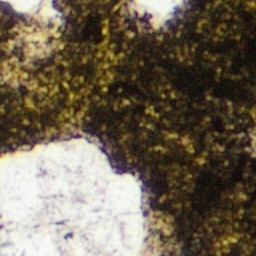cement_matrix: (0, 0, 255, 255), (0, 62, 23, 83)
gravel_crushed_stones: (0, 134, 167, 255), (0, 0, 63, 61), (125, 0, 185, 28), (1, 63, 22, 82)
